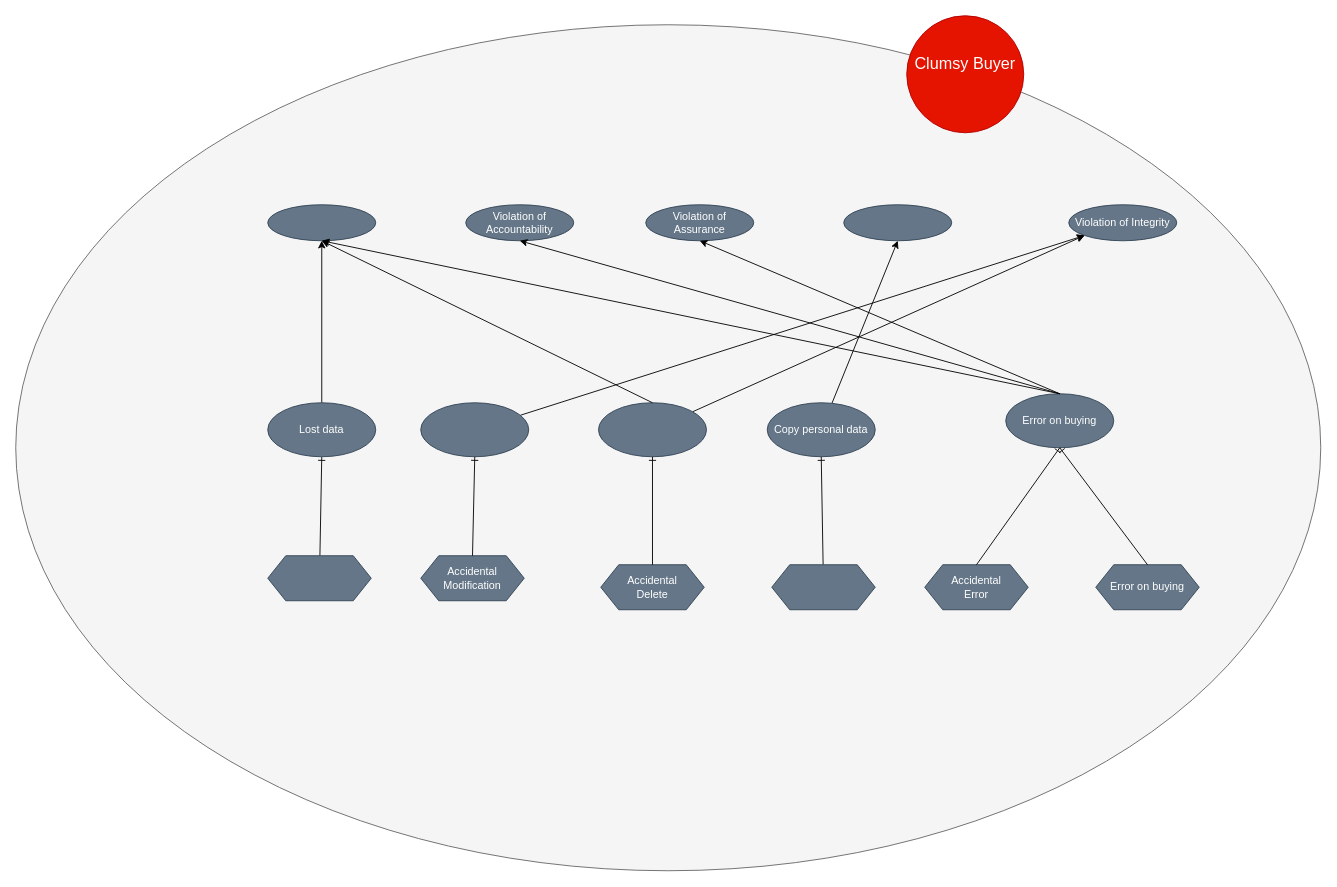
The diagram is 1337 pixels wide and 887 high, and some of its shapes have lost their labels. The shapes that lost their labels are listed below. From the top down, each one's centre as x and y in pixels, then its label:
the point at 321,222: Violation of Avaiability
the point at 897,222: Violation of Confidentiality
the point at 474,429: Modification
the point at 652,429: Deletion
the point at 319,578: Lost credentials
the point at 823,587: Accidental Download
